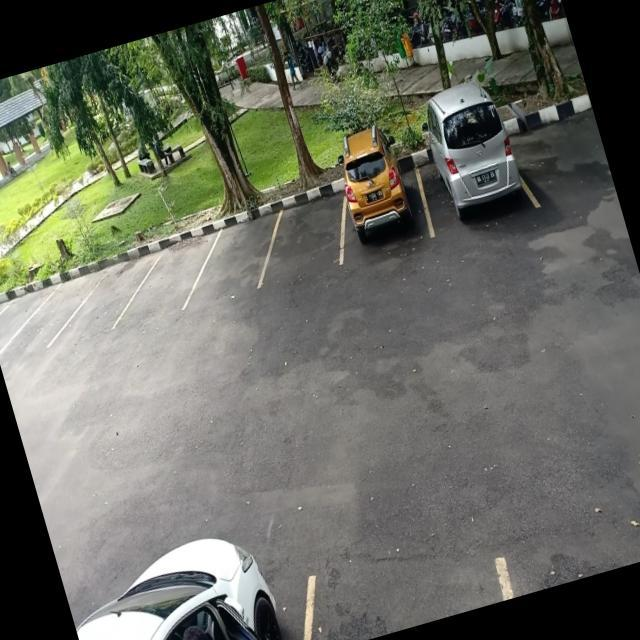empty: (249, 181, 357, 287), (186, 212, 277, 306), (125, 234, 211, 324), (67, 259, 146, 338), (16, 279, 88, 355)
occupied: (398, 88, 538, 239), (324, 131, 432, 257)
